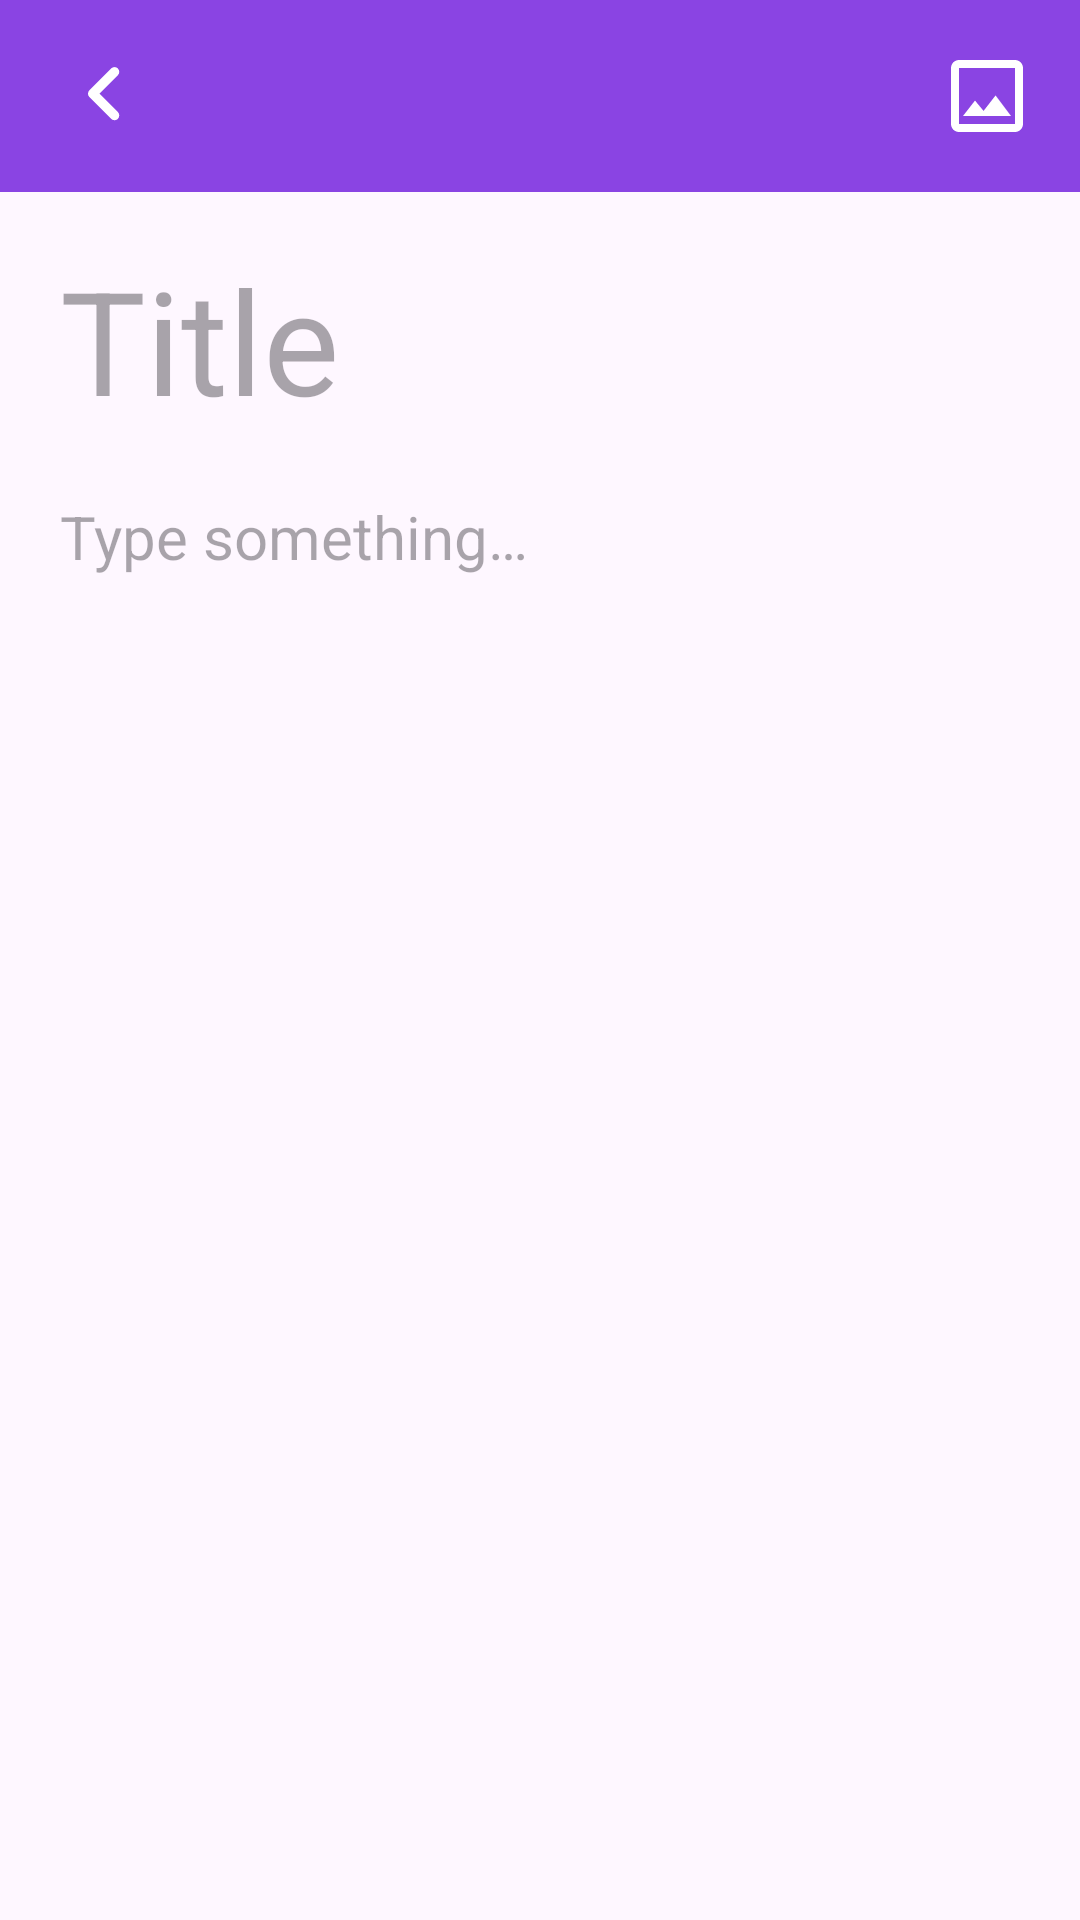

Named icons in this screenshot (1080x1920) and their bounding boxes, (x1, y1, x2, y2):
arrow back: (88, 67, 120, 121)
